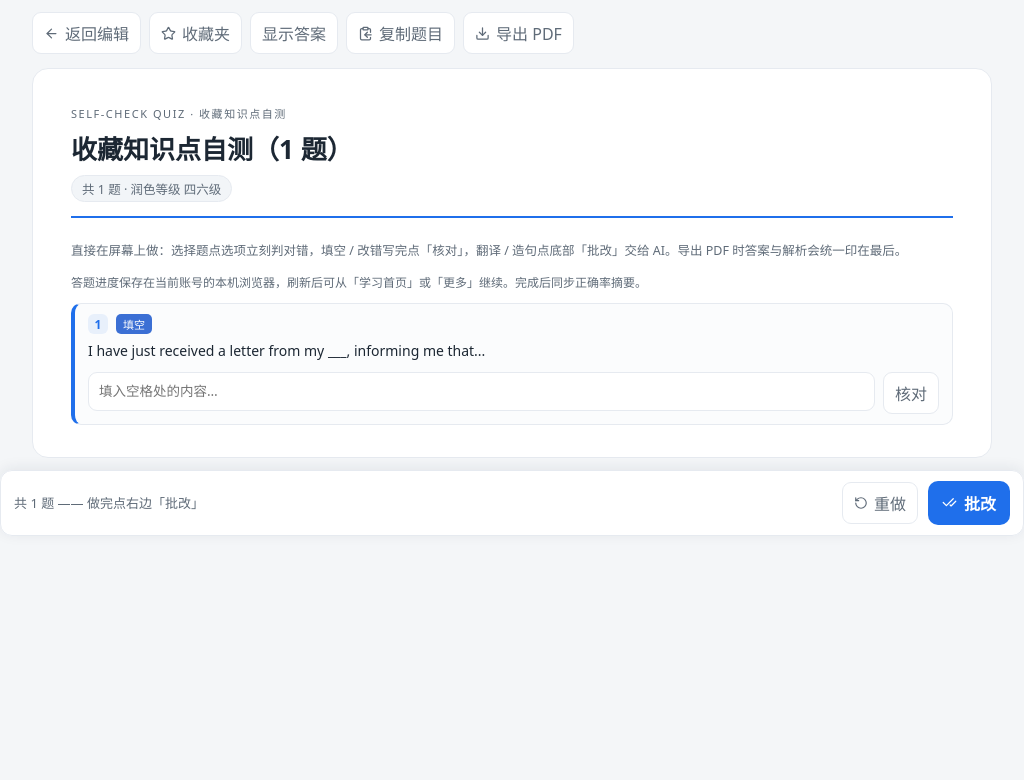
Test: 填空 / 改错：写完点「核对」 › 改作答会把旧判定作废（不会出现"答案改了、判定还是旧的"）
The image size is (1024, 780).
Type "old school" into the field with placeholder "填入空格处的内容…" at [482, 391], box [88,372,875,411]
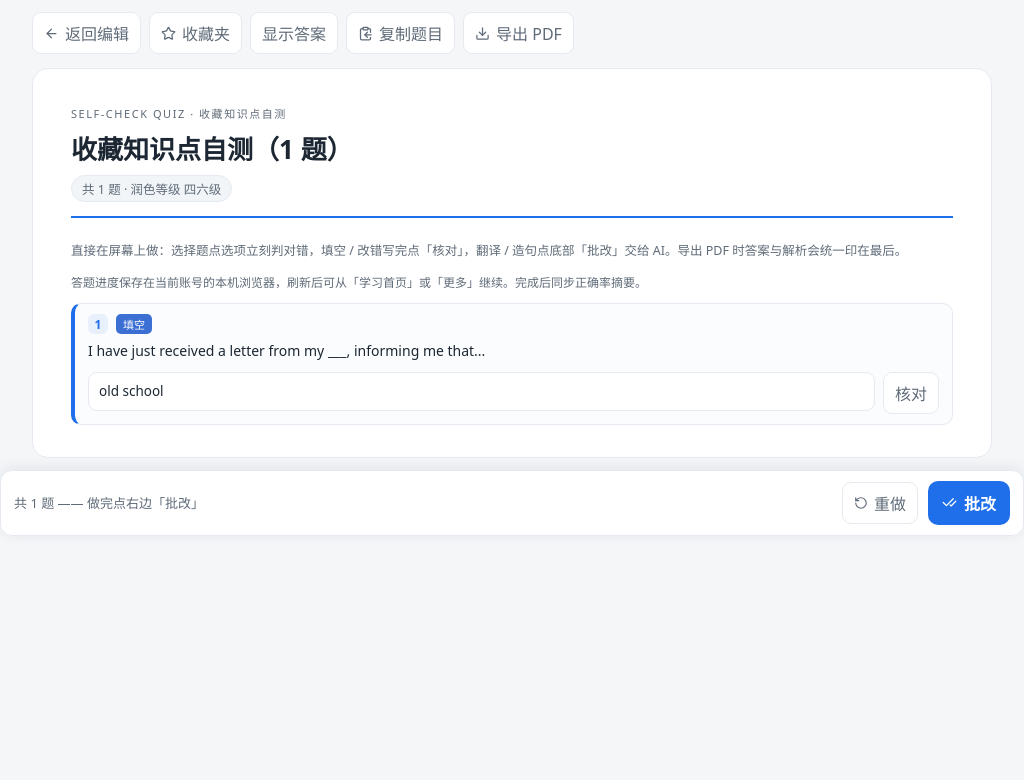
Click the button "核对" at [911, 392], box [883,372,939,414]
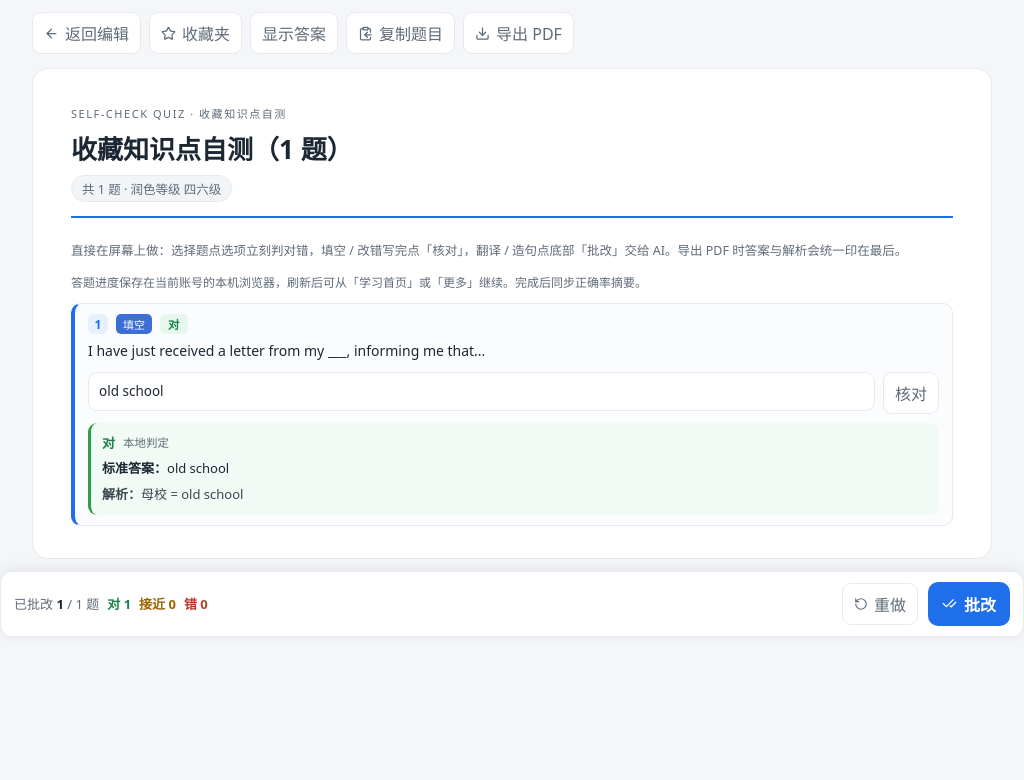
Check: the element showing "对 本地判定 标准答案：old school 解析：母校 = old school" is shown, box [88,422,939,515]
Replace the text in the field with placeholder "填入空格处的内容…" with "old schools" at [482, 391], box [88,372,875,411]
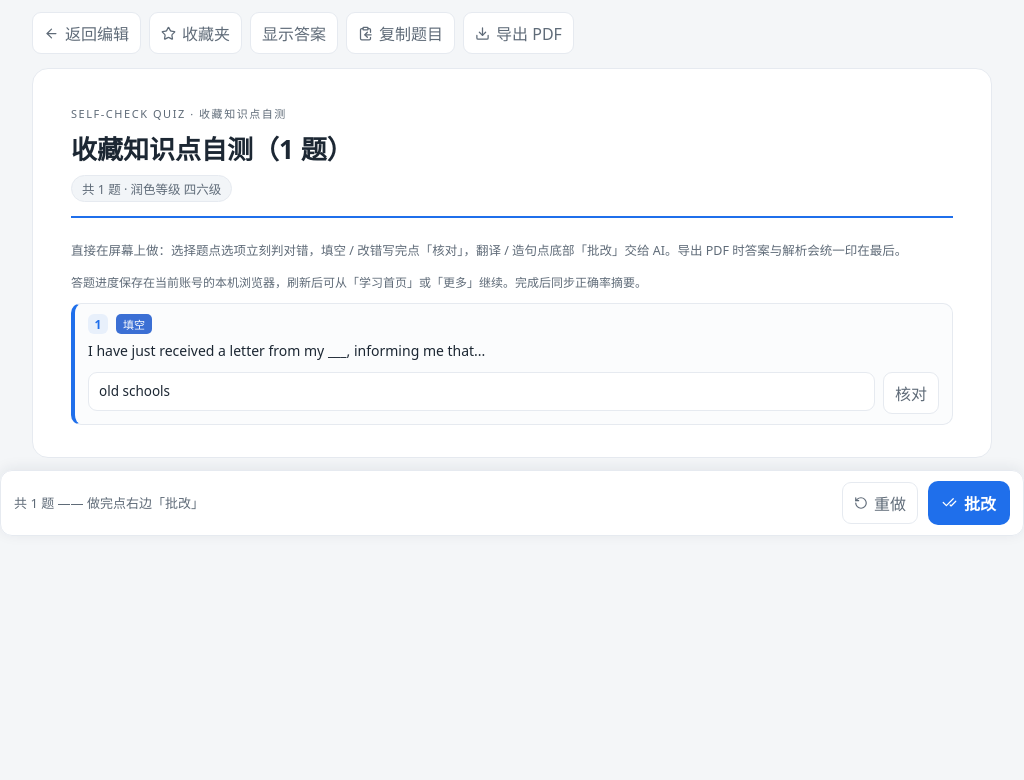
Check: the text "共 1 题 —— 做完点右边「批改」" is shown, box [14,494,204,512]
